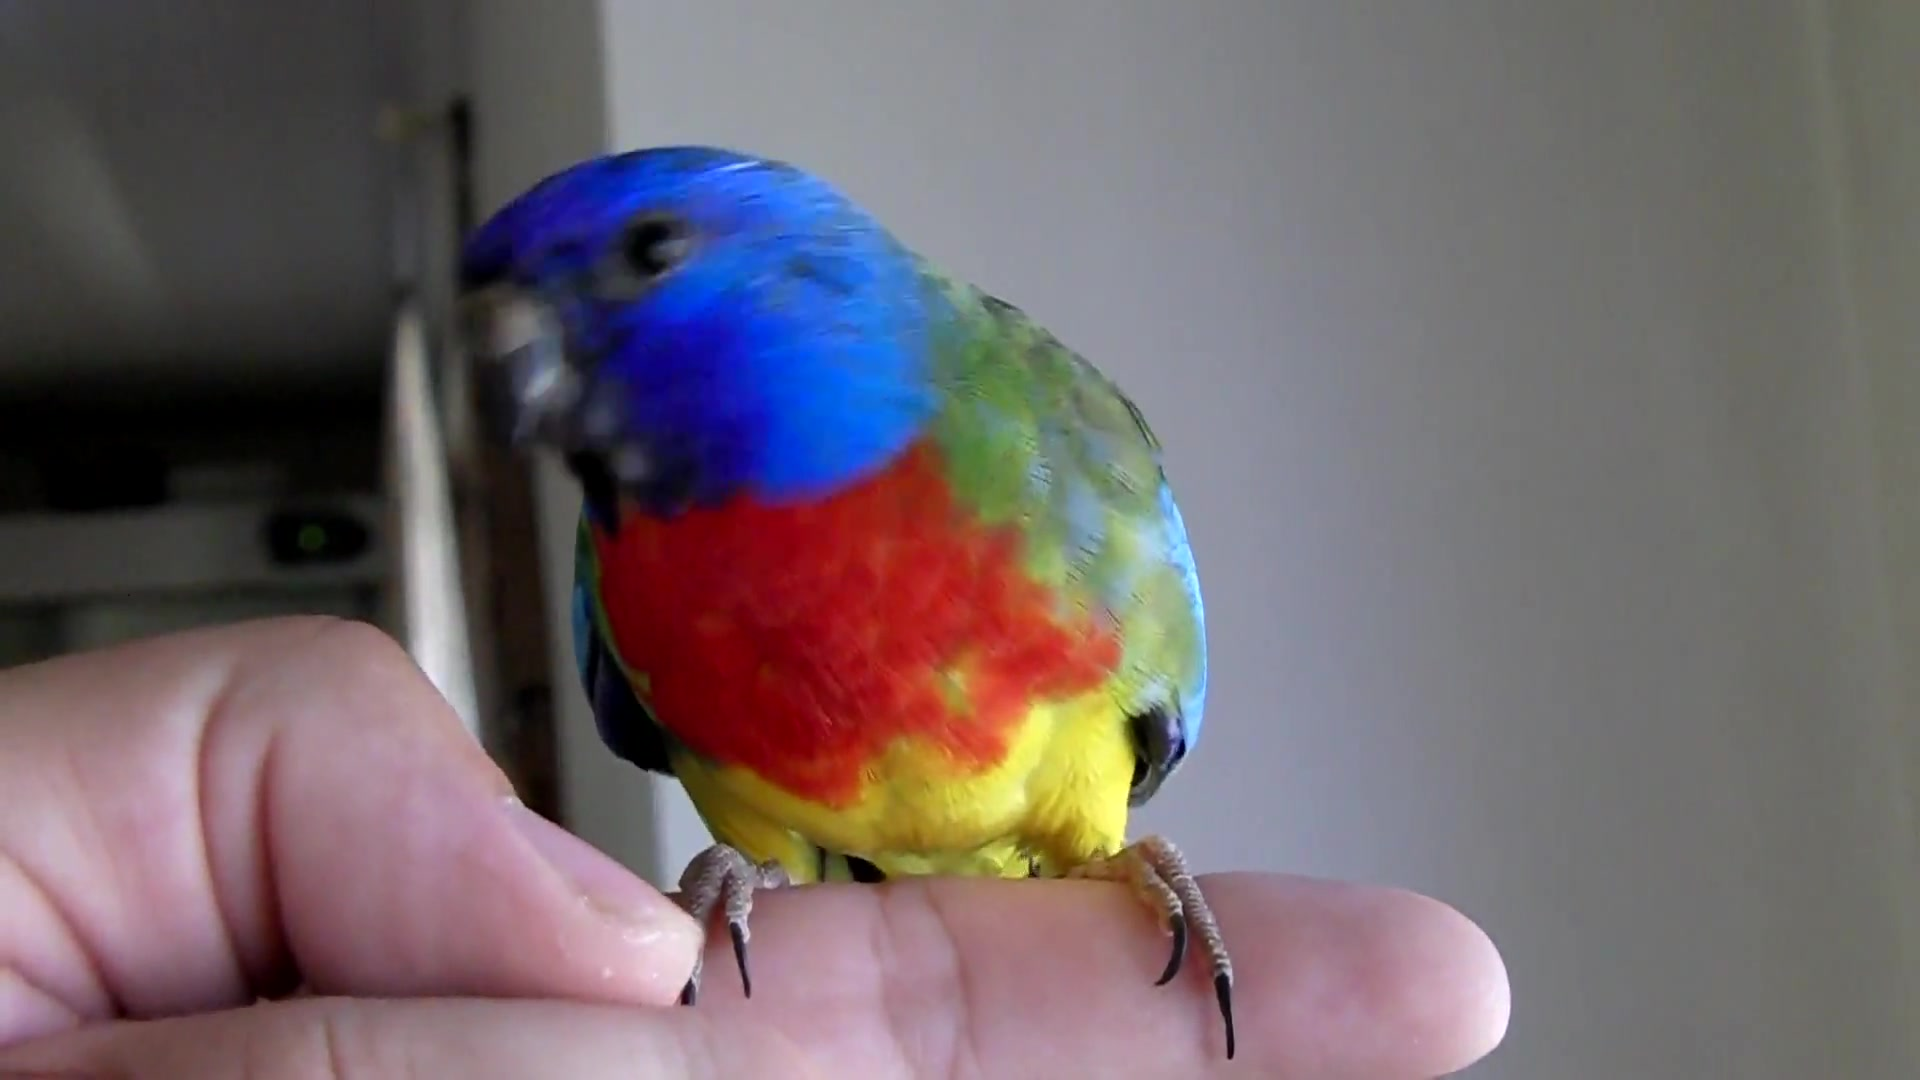bird: (448, 152, 1241, 1071)
